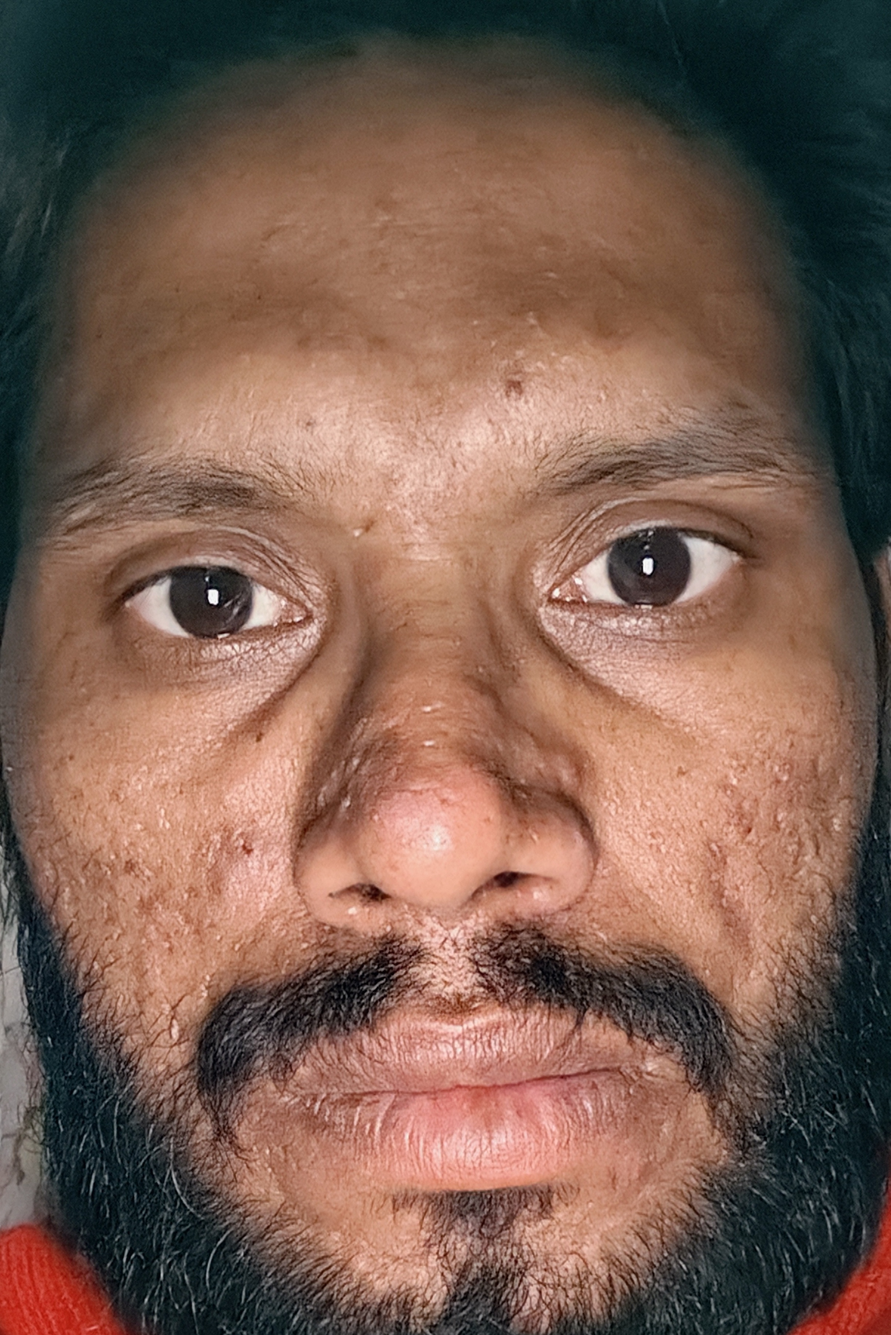closed_comedone: (483, 352, 540, 416), (492, 286, 556, 339)
papule: (194, 859, 254, 916)
